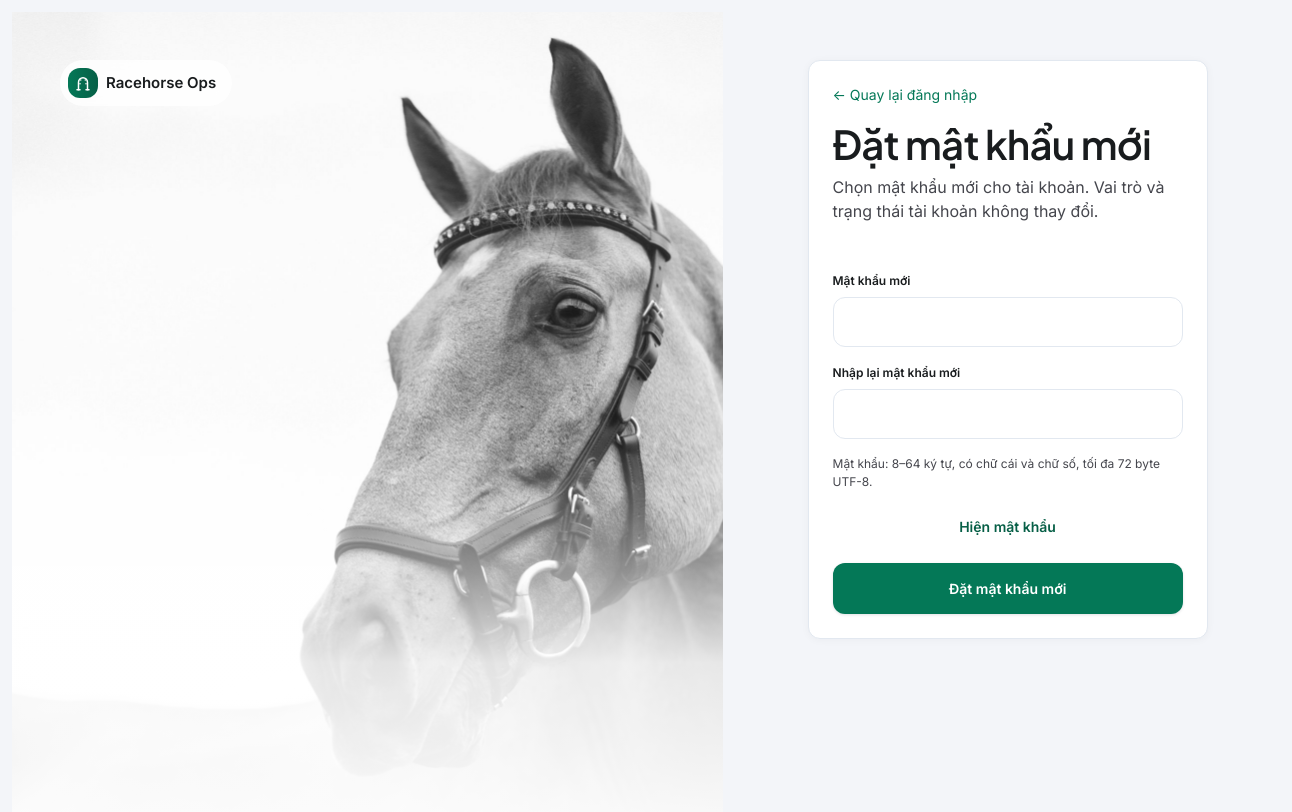
Test: explains an invalid or expired link without echoing server details
Type "Stable2026" into the password field labelled "Mật khẩu mới" at (1008, 322), box [832,297,1182,347]
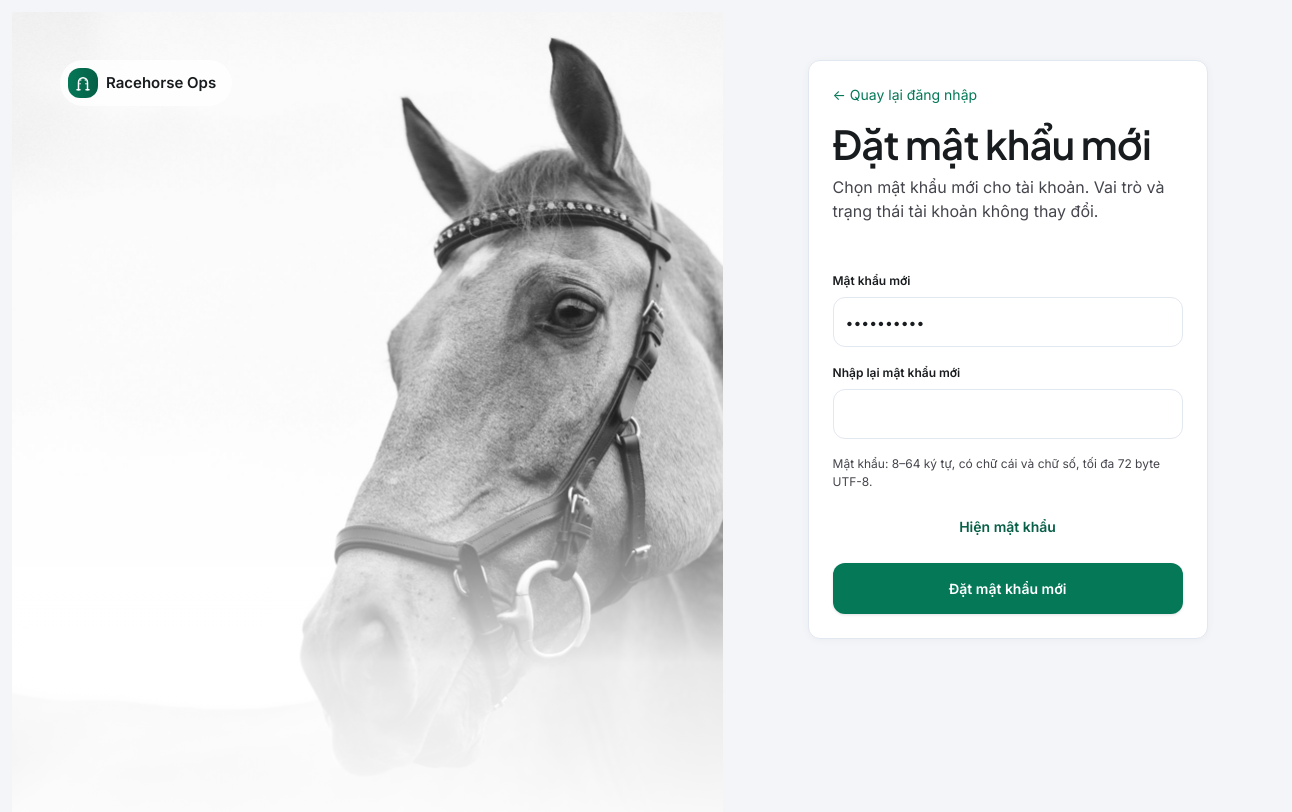
Type "Stable2026" into the password field labelled "Nhập lại mật khẩu mới" at (1008, 414), box [832,389,1182,439]
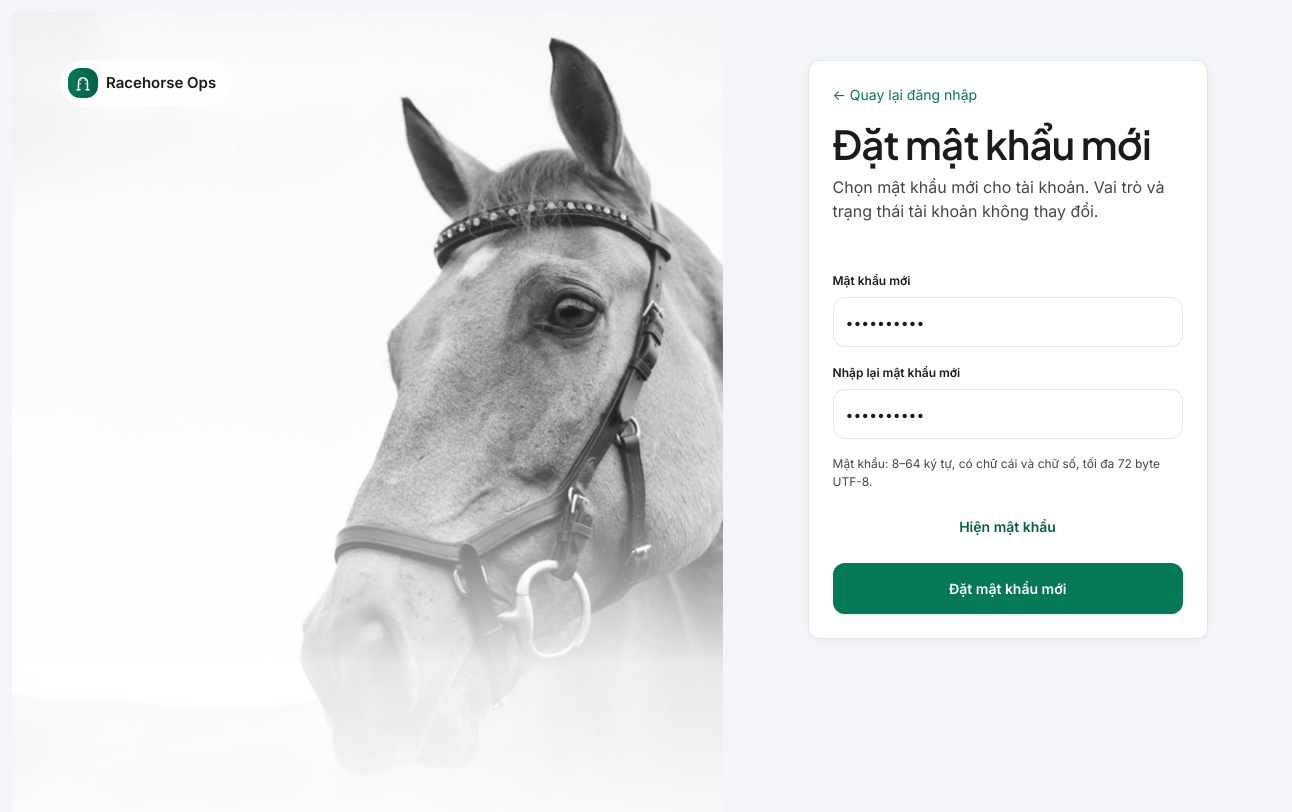
Click the button "Đặt mật khẩu mới" at (1008, 588), box [832,563,1182,614]
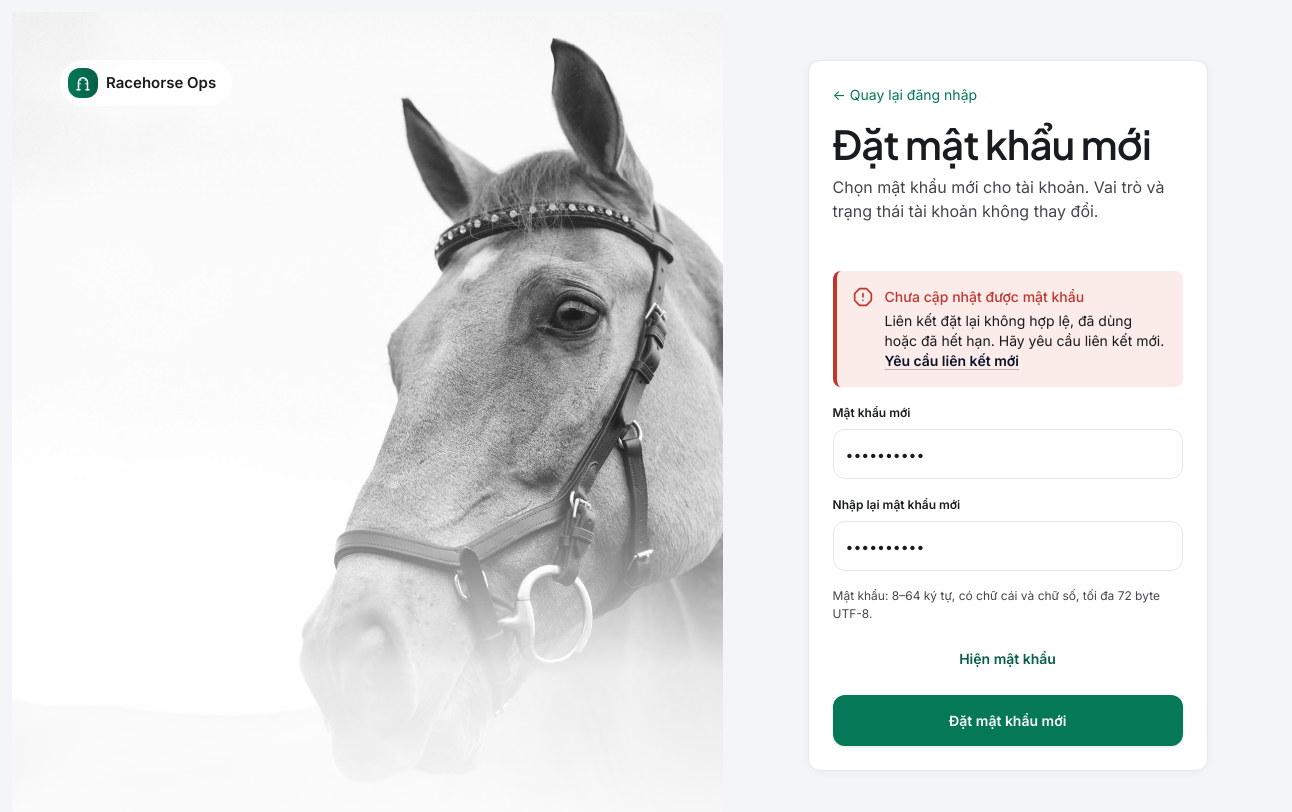
Expected: the text "Liên kết đặt lại không hợp lệ, đã dùng hoặc đã hết hạn. Hãy yêu cầu liên kết mới." is shown, [884,312,1164,349]
